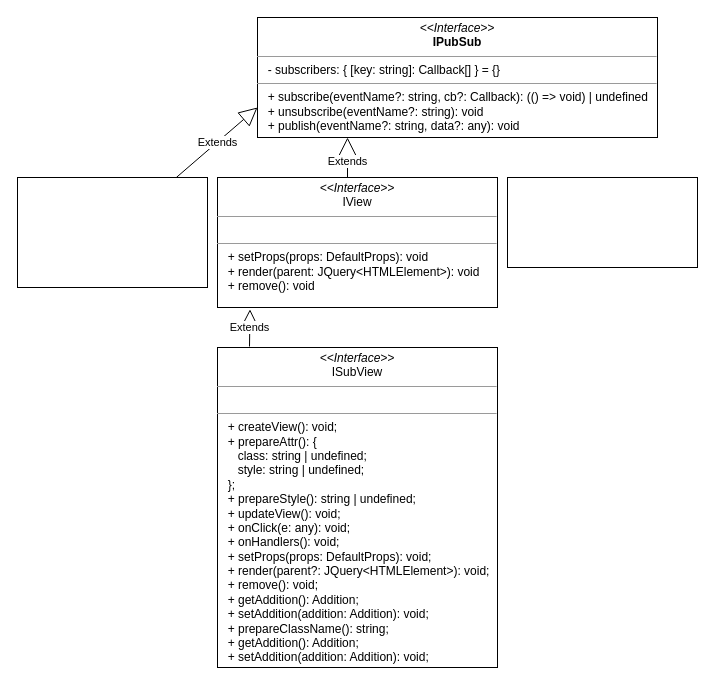
This 715x685 diagram has some shape labels left out. Here are the shapes that lost their labels. From the top down, the centre of each, then its label:
At (x=112, y=232): "<<Interface>> IM odel + getProps(): DefaultProps + setProps(p: Props): void".
At (x=602, y=222): "<<Interface>> IPresenter".
